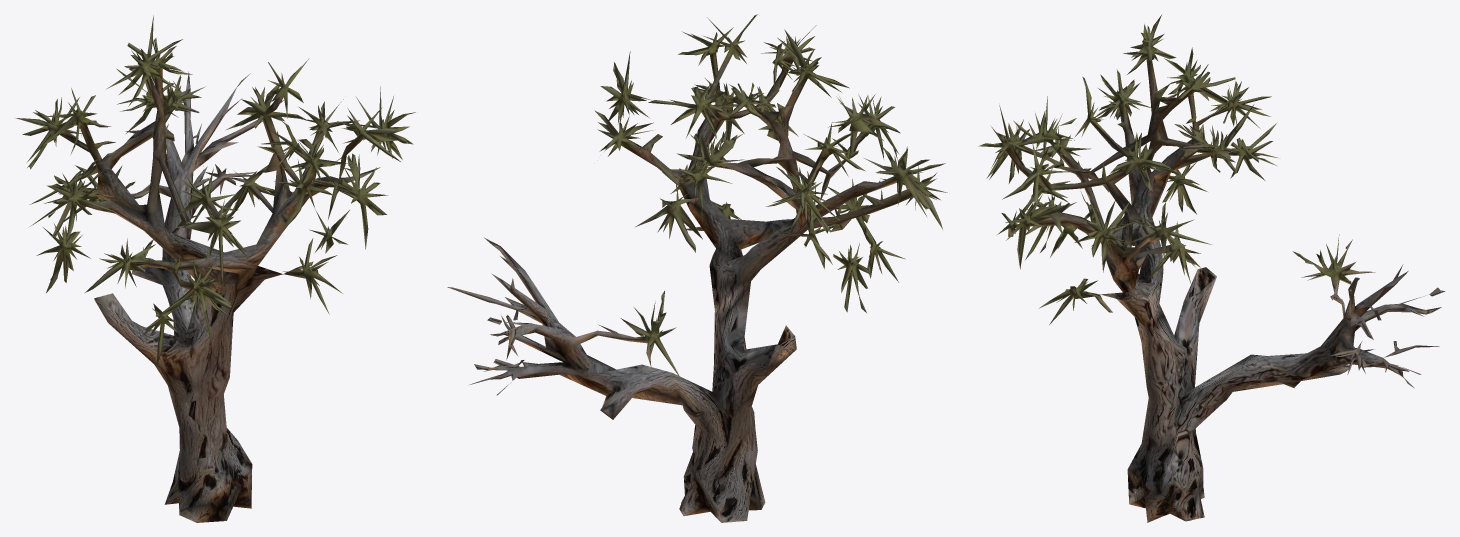
The model's file is acacia-2.glb.
The picture shows the model from 3 angles, left to right: view 1: azimuth 30°, elevation 25°; view 2: azimuth 150°, elevation 25°; view 3: azimuth 270°, elevation 25°; orthographic projection. The views are drawn at different scales.
Visible parts, largest first — view 1: tripo_node_7398e3d6-dbda-4069-9cae-332571257e59; view 2: tripo_node_7398e3d6-dbda-4069-9cae-332571257e59; view 3: tripo_node_7398e3d6-dbda-4069-9cae-332571257e59.
Boxes of the visible parts, left/top/right/bottom form: tripo_node_7398e3d6-dbda-4069-9cae-332571257e59: left=15, top=15, right=415, bottom=522; tripo_node_7398e3d6-dbda-4069-9cae-332571257e59: left=447, top=14, right=947, bottom=522; tripo_node_7398e3d6-dbda-4069-9cae-332571257e59: left=978, top=15, right=1445, bottom=522.
Bounding box in the file's own units: 0.7627 × 0.9983 × 0.9033.
Materials: 1 (1 with a texture image).
